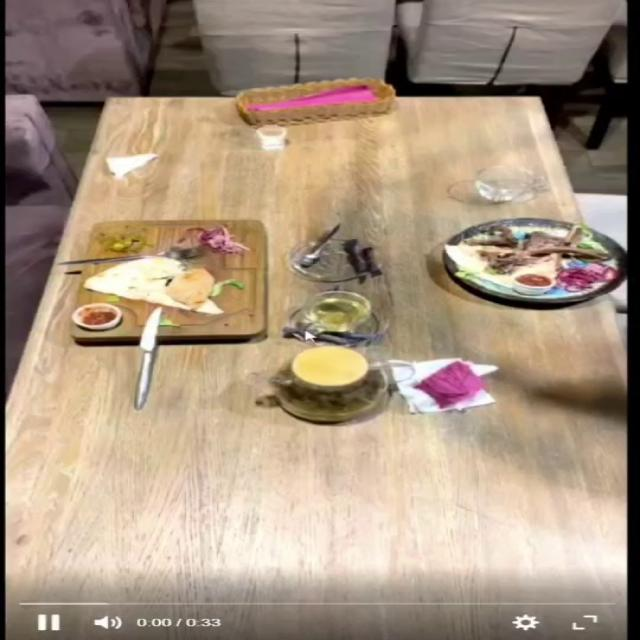meat: (456, 202, 611, 327)
tea: (304, 351, 391, 411)
